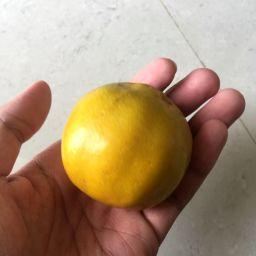Unripe: (62, 84, 191, 207)
